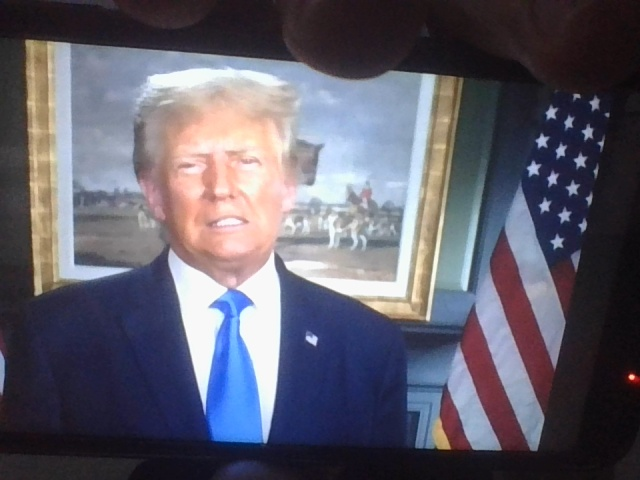fake: (151, 60, 304, 277)
